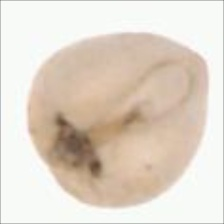L5: (38, 110, 114, 186), (123, 61, 195, 128)
L6: (24, 30, 212, 211)
